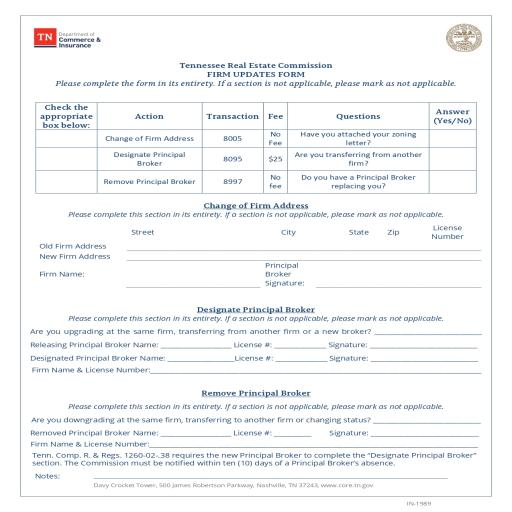Address: (38, 240, 110, 251), (39, 252, 112, 262)
Signature: (264, 262, 306, 288), (330, 352, 368, 364), (328, 340, 370, 350), (328, 428, 370, 438)
free_text: (29, 366, 151, 378), (30, 352, 162, 363), (29, 426, 157, 436), (28, 340, 158, 349), (37, 269, 85, 279), (234, 352, 274, 363), (234, 428, 272, 439), (234, 340, 272, 350)
